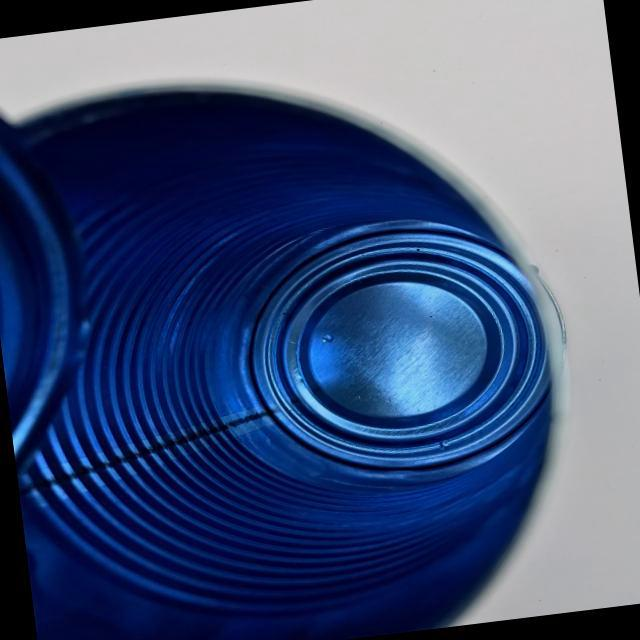metal: (0, 1, 603, 640)
